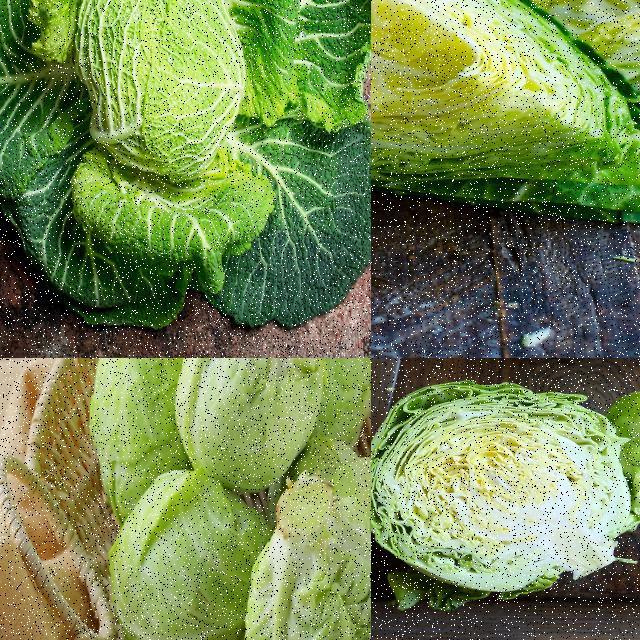cabbage: (371, 378, 639, 615), (371, 0, 639, 230), (69, 0, 243, 189), (108, 465, 262, 639), (241, 470, 370, 639), (175, 358, 318, 496), (87, 358, 198, 509), (270, 358, 370, 442)
